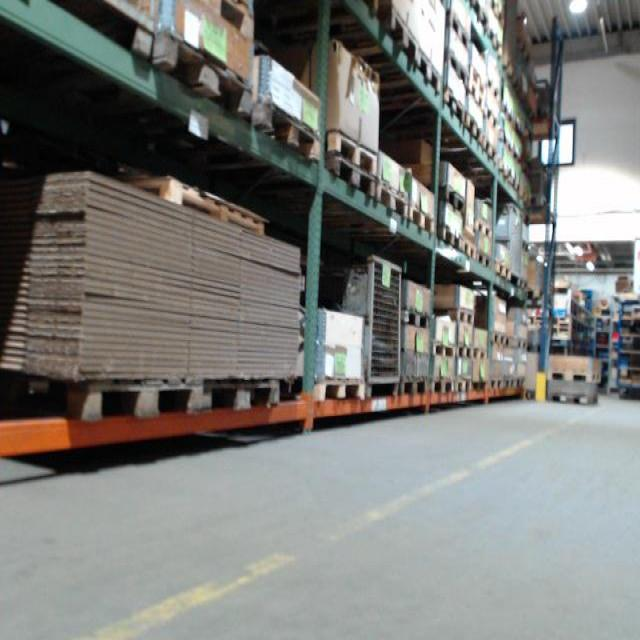pallet: (3, 372, 203, 423), (152, 30, 254, 119), (127, 175, 266, 239), (252, 100, 323, 163), (201, 379, 281, 415), (322, 128, 377, 177), (321, 153, 376, 201), (378, 3, 418, 66), (311, 375, 367, 405), (375, 179, 410, 219), (417, 44, 442, 94), (444, 46, 469, 87), (444, 10, 469, 49), (546, 368, 602, 385), (548, 390, 601, 406), (439, 185, 467, 215), (444, 89, 466, 124), (409, 207, 435, 235), (400, 306, 430, 329), (464, 112, 483, 144), (437, 226, 462, 250), (399, 375, 428, 395), (431, 339, 456, 359), (429, 375, 454, 395), (452, 306, 476, 325), (467, 83, 484, 107), (482, 137, 497, 160), (484, 106, 499, 129), (494, 261, 512, 280), (475, 219, 492, 238), (460, 241, 476, 259), (486, 79, 500, 99), (457, 344, 473, 360), (476, 251, 491, 268), (490, 330, 507, 345), (472, 346, 486, 360), (515, 336, 529, 350), (502, 377, 517, 390), (456, 380, 472, 392), (516, 277, 529, 291), (490, 379, 503, 391)
stillage: (314, 240, 412, 402)
